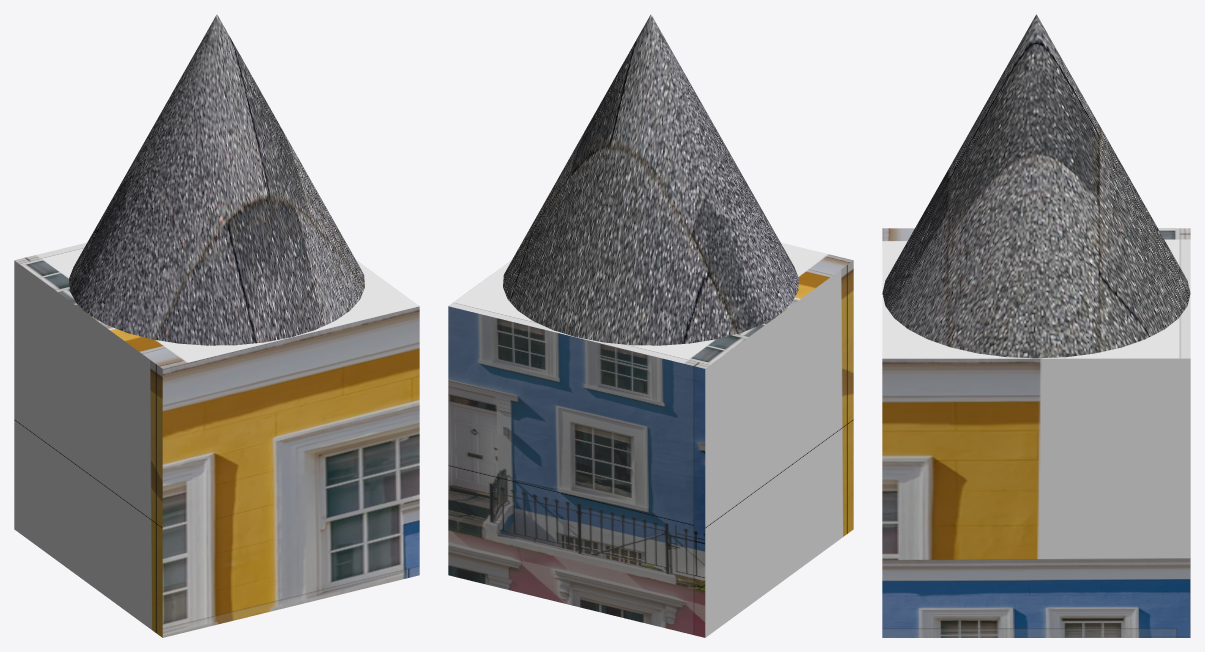
The model's file is faaaaahouse.glb.
3 views of the same model, side by side, from view 1: azimuth 30°, elevation 25°; view 2: azimuth 150°, elevation 25°; view 3: azimuth 270°, elevation 25° (orthographic). The views are drawn at different scales.
Visible parts, largest first — view 1: Cube, Cone; view 2: Cube, Cone; view 3: Cube, Cone.
Boxes of the visible parts, x1,y1,x2,y2 form: Cube: (14,242,419,637); Cone: (69,14,364,345); Cube: (448,242,853,637); Cone: (503,14,798,345); Cube: (882,228,1190,637); Cone: (882,14,1190,358).
Size of the model in its own units: 2 by 4 by 2.
Materials: 2 (2 with a texture image).
